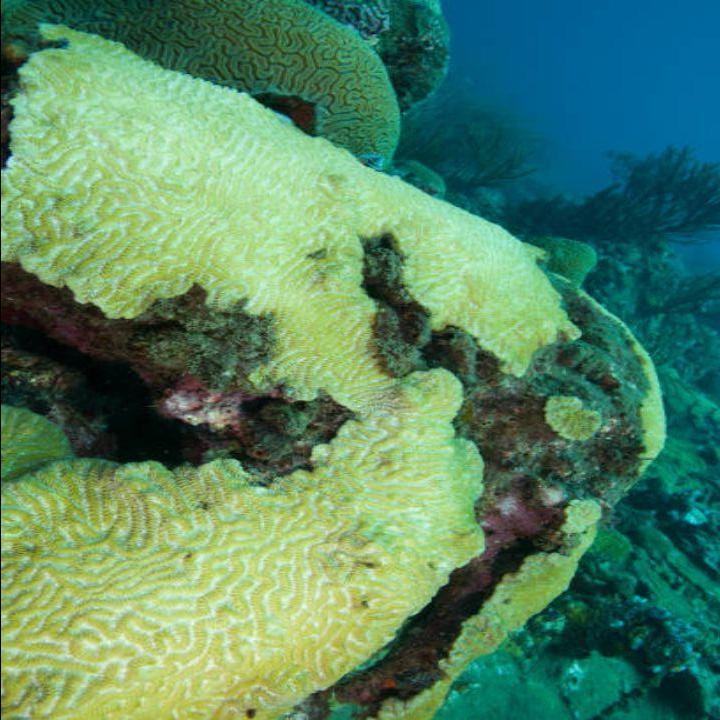Bleached disease: (1, 173, 554, 701)
Healthy Coral: (134, 3, 439, 92)
